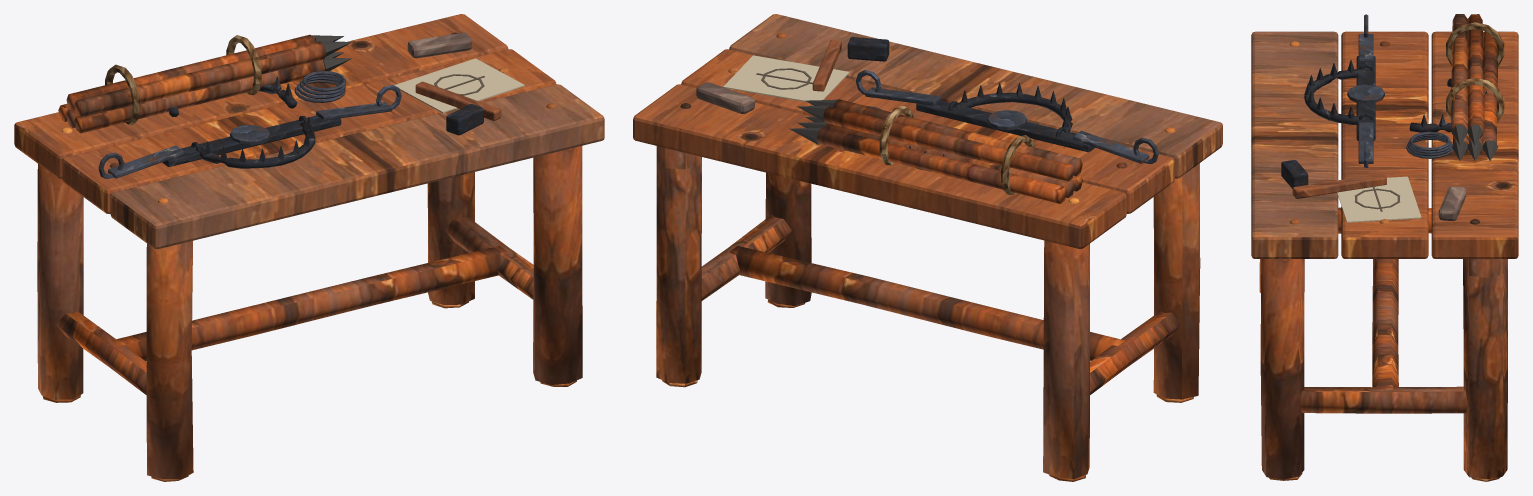
The model's file is op_trapmaker_table.glb.
The picture shows the model from 3 angles, left to right: view 1: azimuth 30°, elevation 25°; view 2: azimuth 150°, elevation 25°; view 3: azimuth 270°, elevation 25°; orthographic projection. The views are drawn at different scales.
Visible parts, largest first — view 1: model; view 2: model; view 3: model.
Part boxes in pixels (box(x1,y1,x2,y2)): model: box(14, 14, 604, 481); model: box(633, 14, 1222, 481); model: box(1251, 14, 1518, 481).
Bounding box in the file's own units: 1.3 × 0.879 × 0.712.
18 materials, 15 textured.
